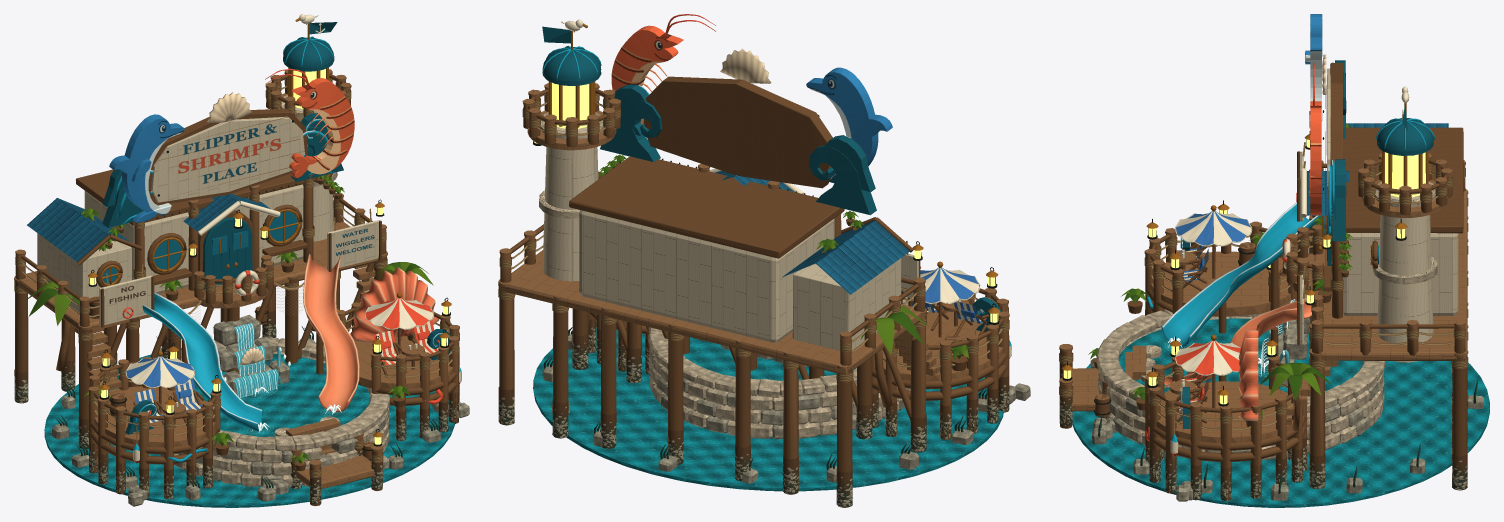
Rendered from flipper-shrimp-ca-light.glb.
The picture shows the model from 3 angles, left to right: view 1: azimuth 30°, elevation 25°; view 2: azimuth 150°, elevation 25°; view 3: azimuth 270°, elevation 25°; orthographic projection. The views are drawn at different scales.
Parts seen in each view (by area): view 1: Flipper and Shrimp C+A; view 2: Flipper and Shrimp C+A; view 3: Flipper and Shrimp C+A.
Boxes of the visible parts, x1,y1,x2,y2 form: Flipper and Shrimp C+A: [14, 14, 469, 507]; Flipper and Shrimp C+A: [498, 14, 1030, 507]; Flipper and Shrimp C+A: [1059, 14, 1489, 507].
Bounding box in the file's own units: 0.8603 × 0.7671 × 0.781.
37 materials, 20 textured.
